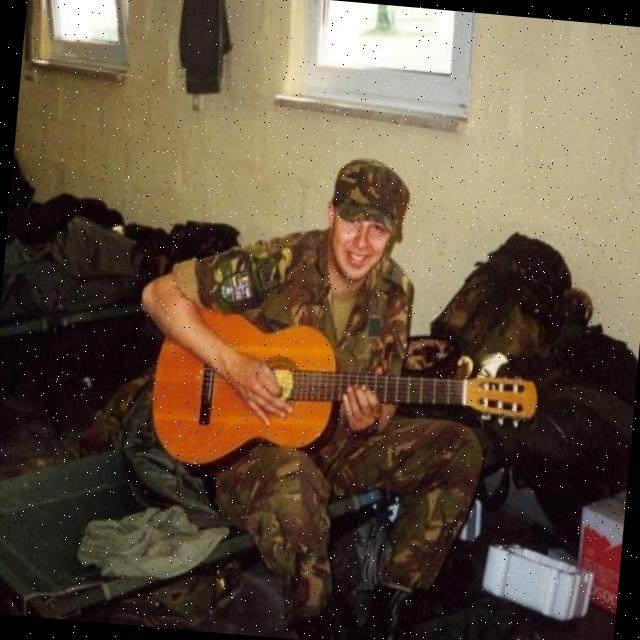guitar: (143, 300, 544, 503)
